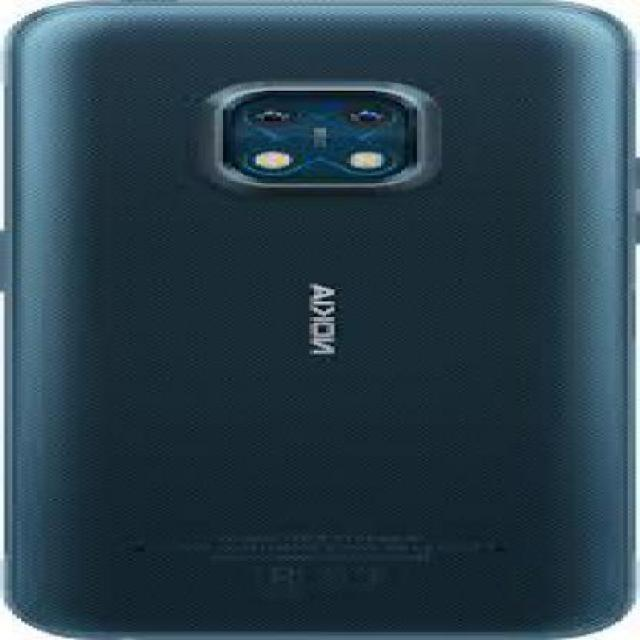phone: (1, 2, 637, 639)
